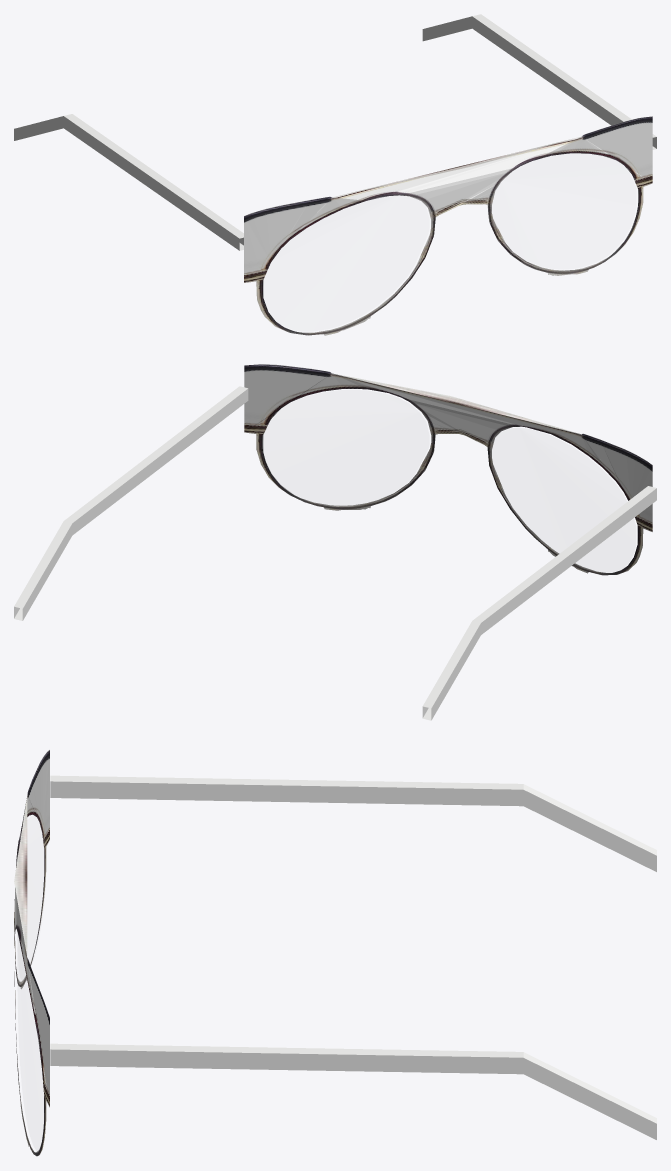
File: trend-spotter-supreme-6_black-gold.glb
3 views of the same model, one above another, from view 1: azimuth 30°, elevation 25°; view 2: azimuth 150°, elevation 25°; view 3: azimuth 270°, elevation 25° (orthographic). The views are drawn at different scales.
Parts seen in each view (by area): view 1: frame_front, temple_viewer_left, temple_viewer_right; view 2: frame_front, temple_viewer_left, temple_viewer_right; view 3: temple_viewer_right, temple_viewer_left, frame_front.
Boxes of the visible parts, box(x1,y1,x2,y2) form: frame_front: box(244, 116, 652, 335); temple_viewer_left: box(14, 114, 243, 250); temple_viewer_right: box(422, 14, 656, 149); frame_front: box(244, 364, 652, 575); temple_viewer_left: box(422, 486, 656, 720); temple_viewer_right: box(14, 386, 248, 620); temple_viewer_right: box(50, 1043, 656, 1139); temple_viewer_left: box(50, 775, 656, 871); frame_front: box(14, 750, 49, 1156).
Bounding box in the file's own units: 0.1421 × 0.0451 × 0.141.
Materials: 3 (2 with a texture image).
